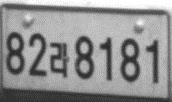1: (97, 36, 113, 82), (144, 39, 159, 84)
2: (28, 33, 47, 78)
8: (119, 37, 140, 83), (74, 36, 95, 79), (5, 31, 25, 75)
라: (48, 42, 70, 78)
